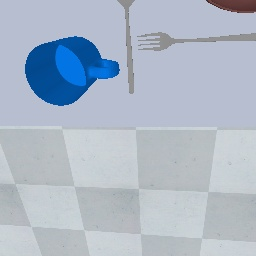Fork: (136, 27, 256, 55)
Mug: (21, 28, 118, 110)
Spoon: (123, 17, 135, 97)
